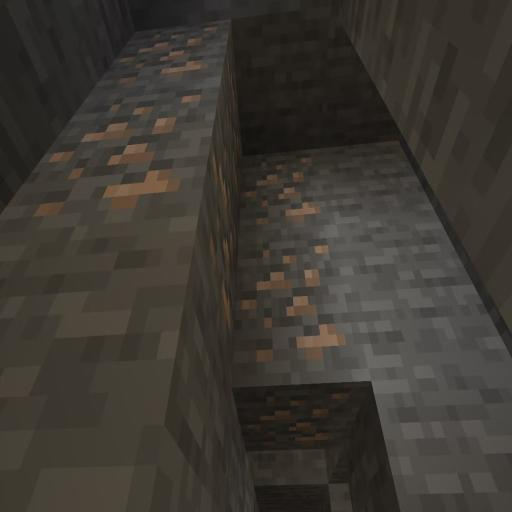iron ore: (28, 18, 364, 454)
